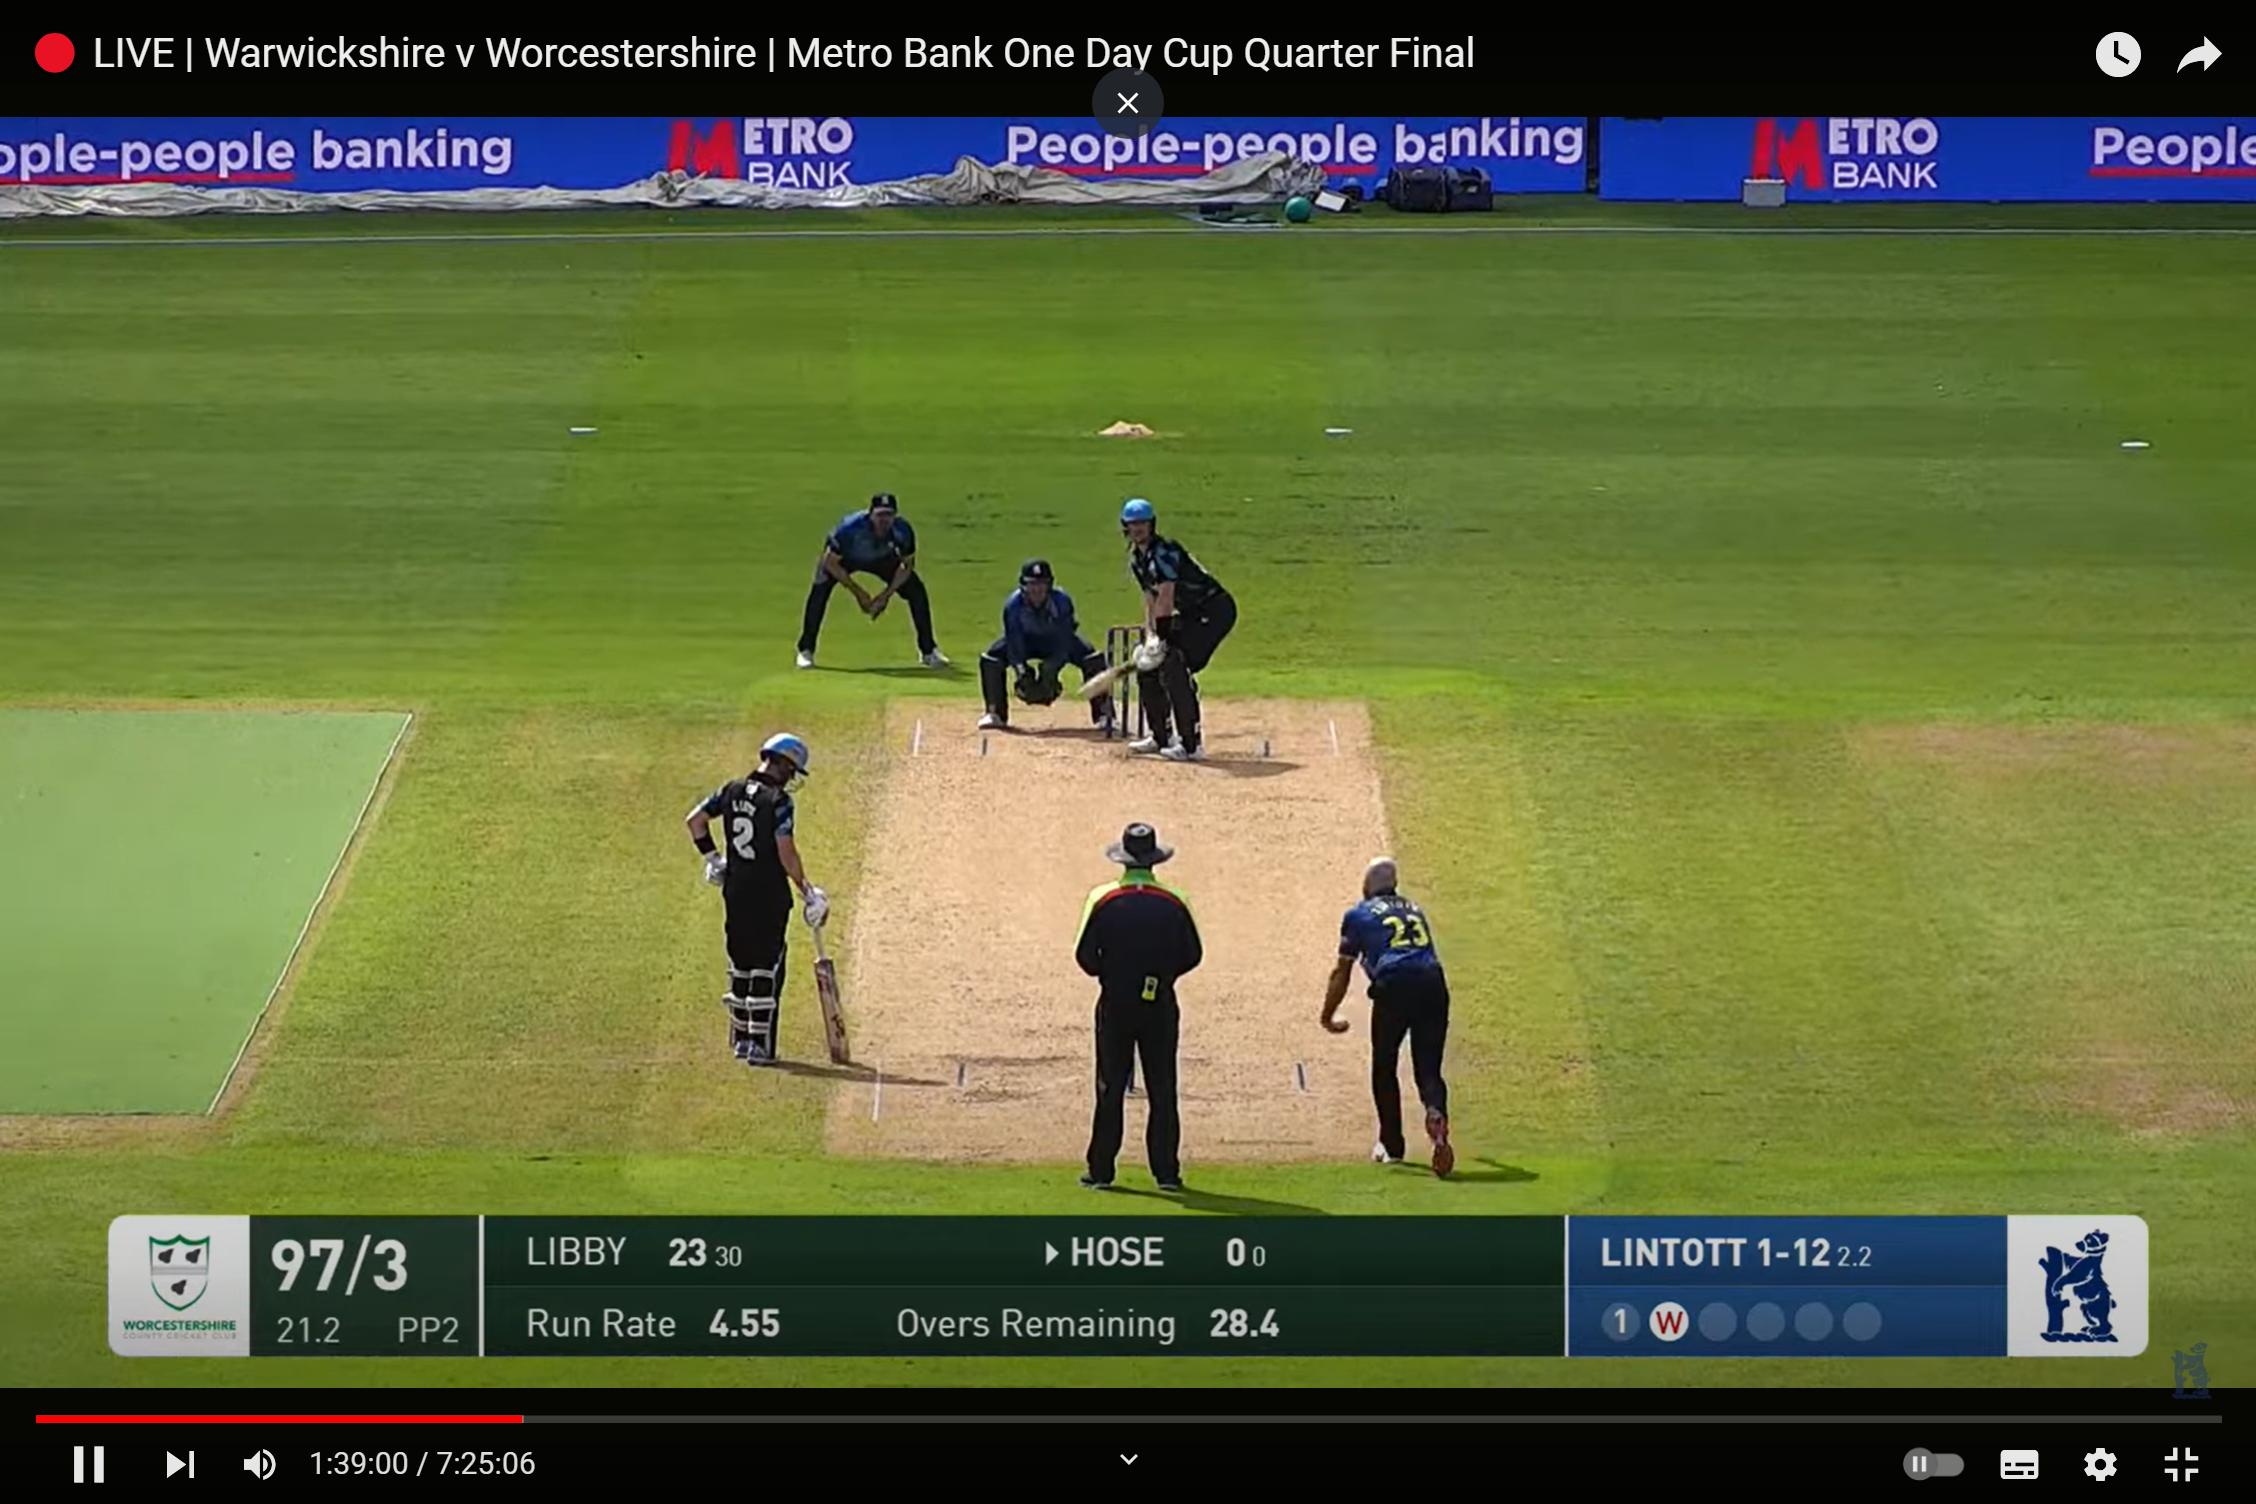batsman: (1093, 487, 1237, 764)
bowler running in: (1309, 831, 1479, 1183)
non striker: (656, 713, 875, 1111)
umpire: (1041, 811, 1220, 1209)
wicket keeper: (970, 539, 1079, 735)
